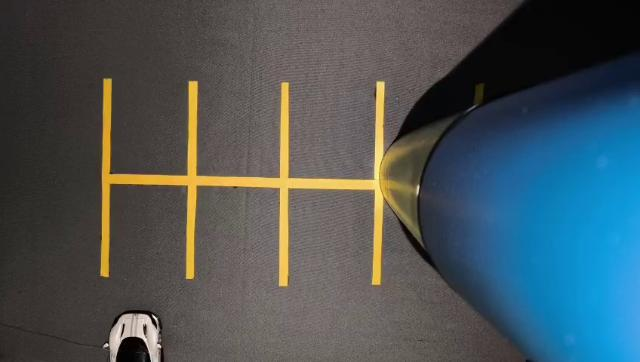toy_car: (75, 273, 201, 362)
